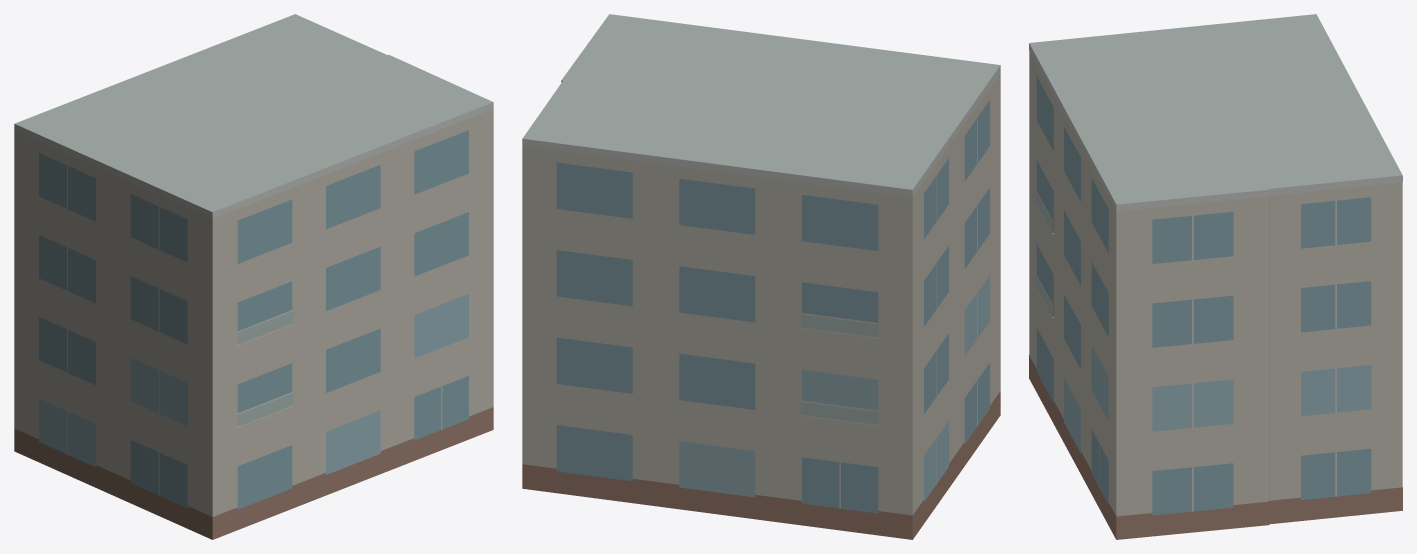
File: survey-upis-32797726.glb
The picture shows the model from 3 angles, left to right: view 1: azimuth 30°, elevation 25°; view 2: azimuth 150°, elevation 25°; view 3: azimuth 270°, elevation 25°; orthographic projection. The views are drawn at different scales.
Parts seen in each view (by area): view 1: survey-upis-32797726.tmp; view 2: survey-upis-32797726.tmp; view 3: survey-upis-32797726.tmp.
Part boxes in pixels (left/top/right/bottom): survey-upis-32797726.tmp: left=14, top=14, right=493, bottom=539; survey-upis-32797726.tmp: left=522, top=14, right=1000, bottom=539; survey-upis-32797726.tmp: left=1029, top=14, right=1402, bottom=539.
Bounding box in the file's own units: 14.33 × 11.75 × 11.88.
